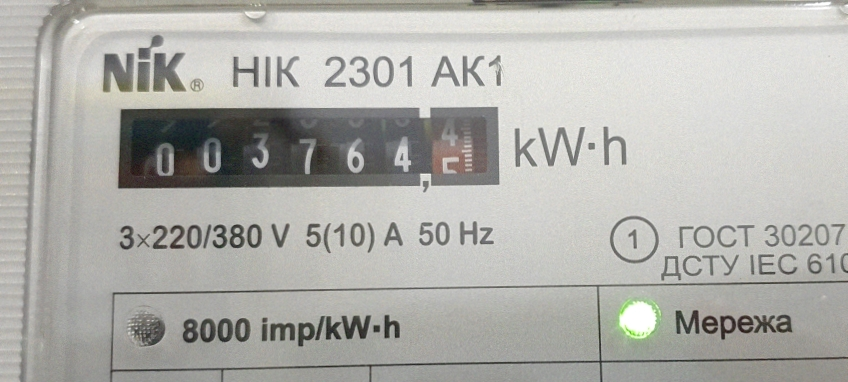0: (152, 139, 176, 177), (200, 134, 222, 174)
3: (247, 130, 270, 169)
4: (392, 133, 412, 173), (438, 115, 460, 147)
5: (438, 153, 460, 175)
6: (344, 135, 365, 174)
7: (295, 133, 319, 176)
screen: (102, 88, 514, 203)
